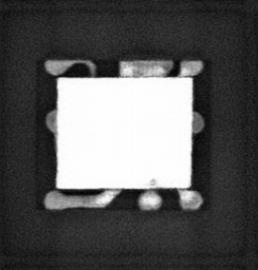DIE_INK: (147, 176, 157, 185)
